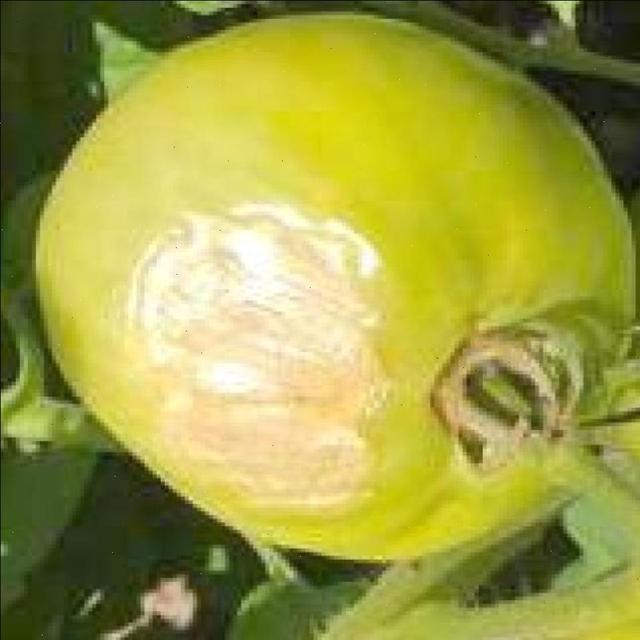Sunscald Fruit: (78, 134, 281, 352)
